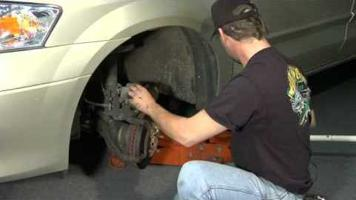person: (127, 1, 316, 200)
